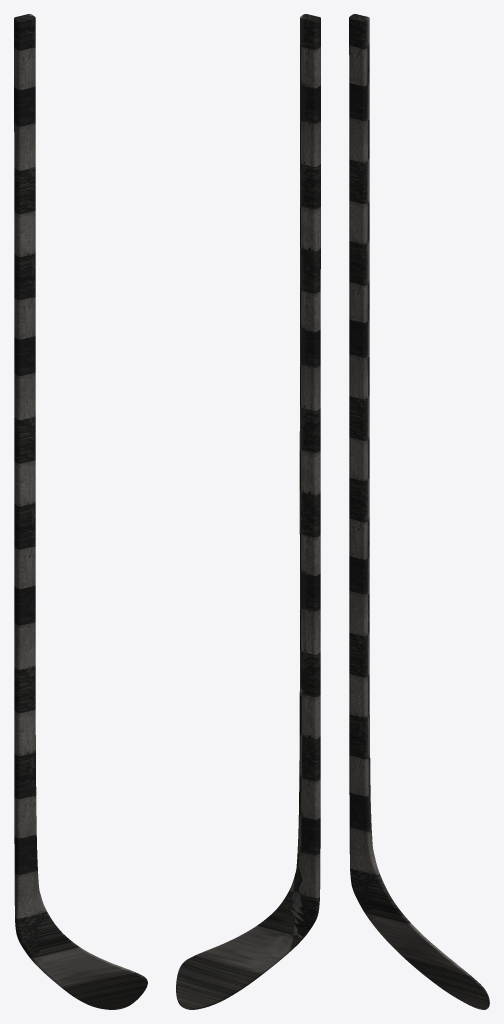
The picture shows the model from 3 angles, left to right: view 1: azimuth 30°, elevation 25°; view 2: azimuth 150°, elevation 25°; view 3: azimuth 330°, elevation 25°; orthographic projection. The views are drawn at different scales.
Parts seen in each view (by area): view 1: geometry_0; view 2: geometry_0; view 3: geometry_0.
Boxes of the visible parts, box(x1,y1,x2,y2) form: geometry_0: box(14, 14, 147, 1009); geometry_0: box(176, 14, 320, 1009); geometry_0: box(349, 14, 489, 1009).
Size of the model in its own units: 231 by 1650 by 58.1.
Materials: 1 (1 with a texture image).
